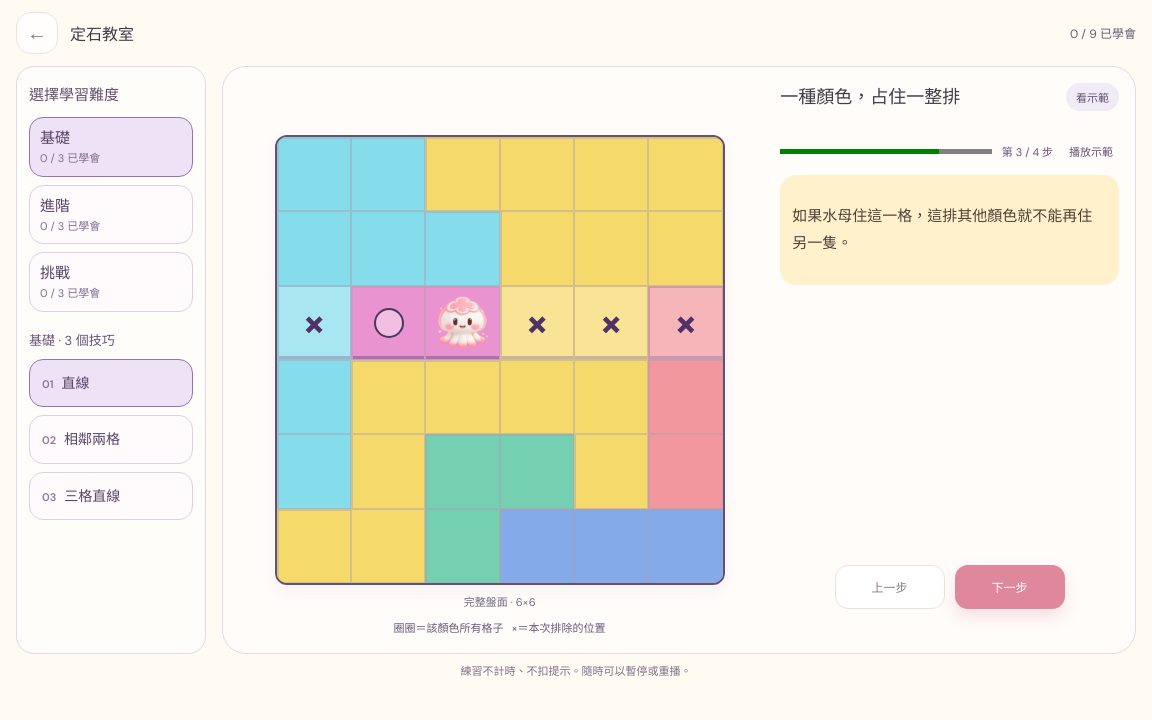
it: requires two one-cell answers for every lesson and saves completion separately from the game
Earlier steps of the test are not shown.
Later steps or results of the test are not shown.
Click the button with class "next-step" at [1010, 587], box [955, 565, 1065, 609]
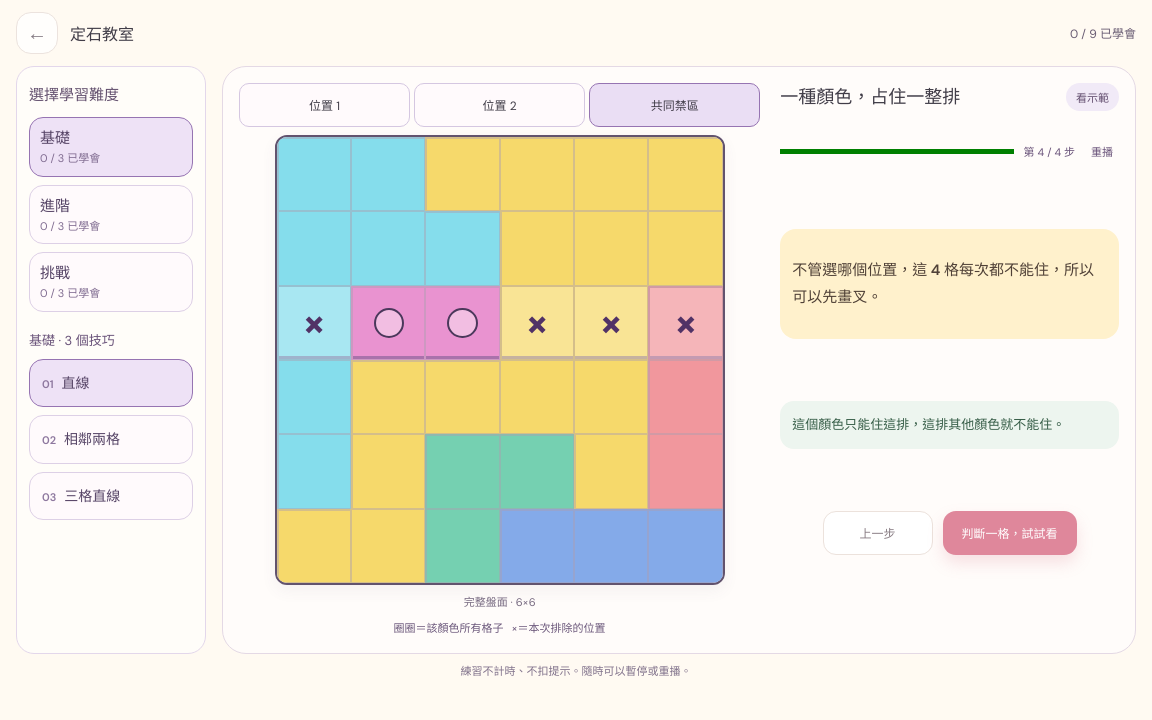
Click the button with class "next-step" at [1010, 533], box [943, 511, 1077, 555]
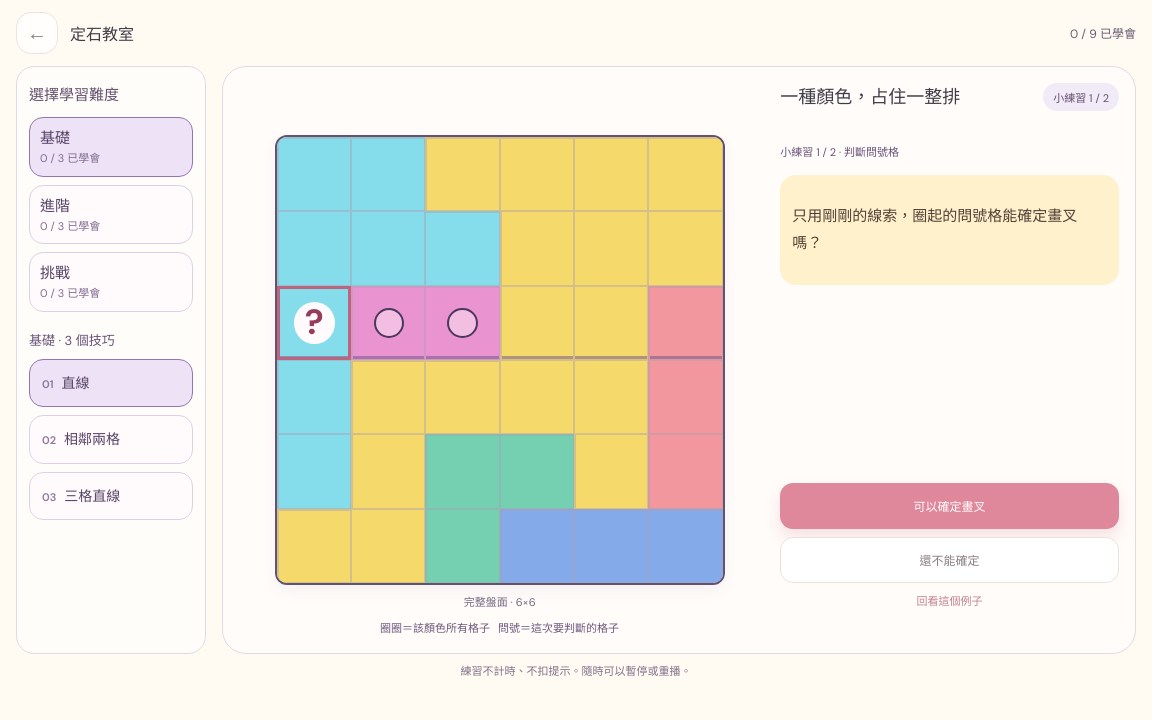
Check: the number of elements with class "candidate-ring" is 2, box [374, 308, 404, 338]; [447, 308, 478, 338]
Check: no elements with class "teaching-x" are shown
Click the button with class "answer-no" at [950, 560], box [780, 537, 1119, 583]
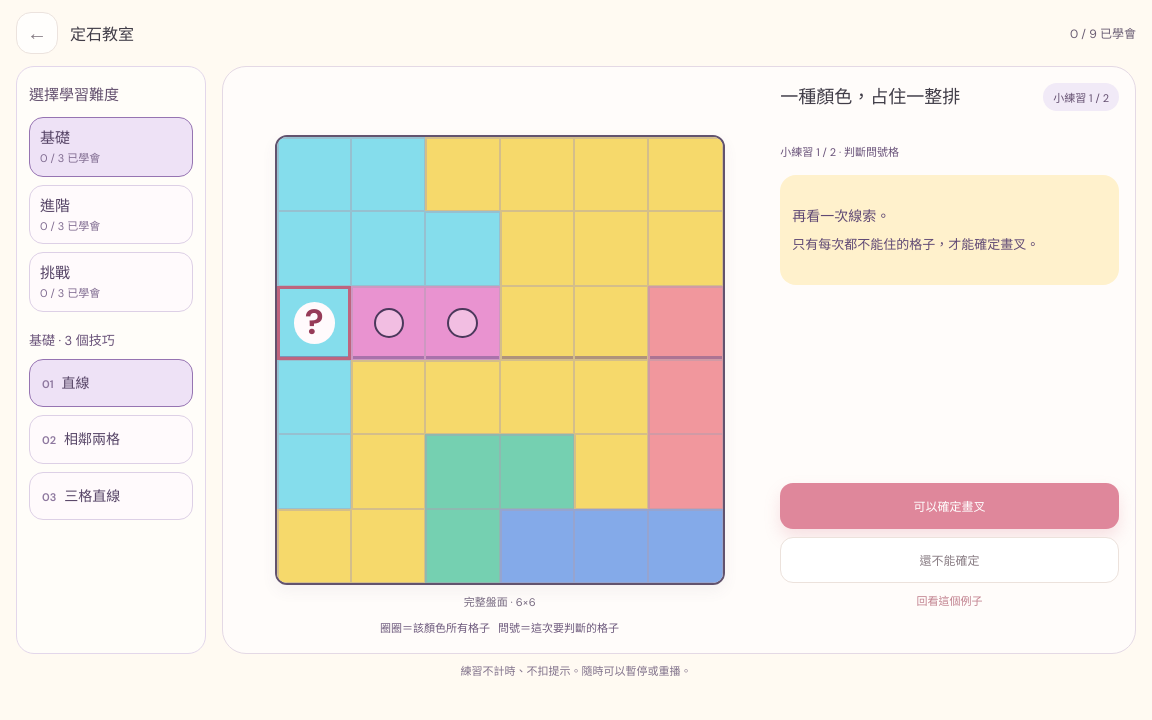
Check: the message "再看一次線索。 只有每次都不能住的格子，才能確定畫叉。" is shown, box [792, 204, 1039, 256]
Click the button with class "answer-yes" at [950, 506], box [780, 483, 1119, 529]
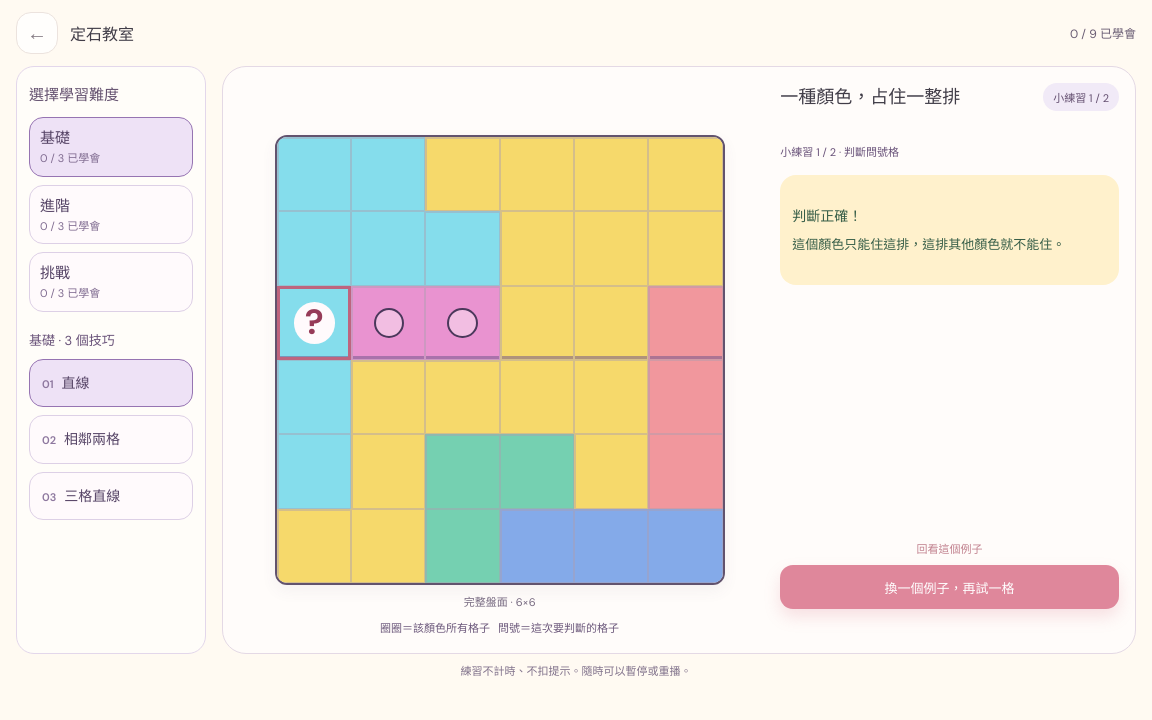
Check: the message "判斷正確！ 這個顏色只能住這排，這排其他顏色就不能住。" is shown, box [792, 204, 1065, 256]
Click the button with class "continue-practice" at [950, 587], box [780, 565, 1119, 609]
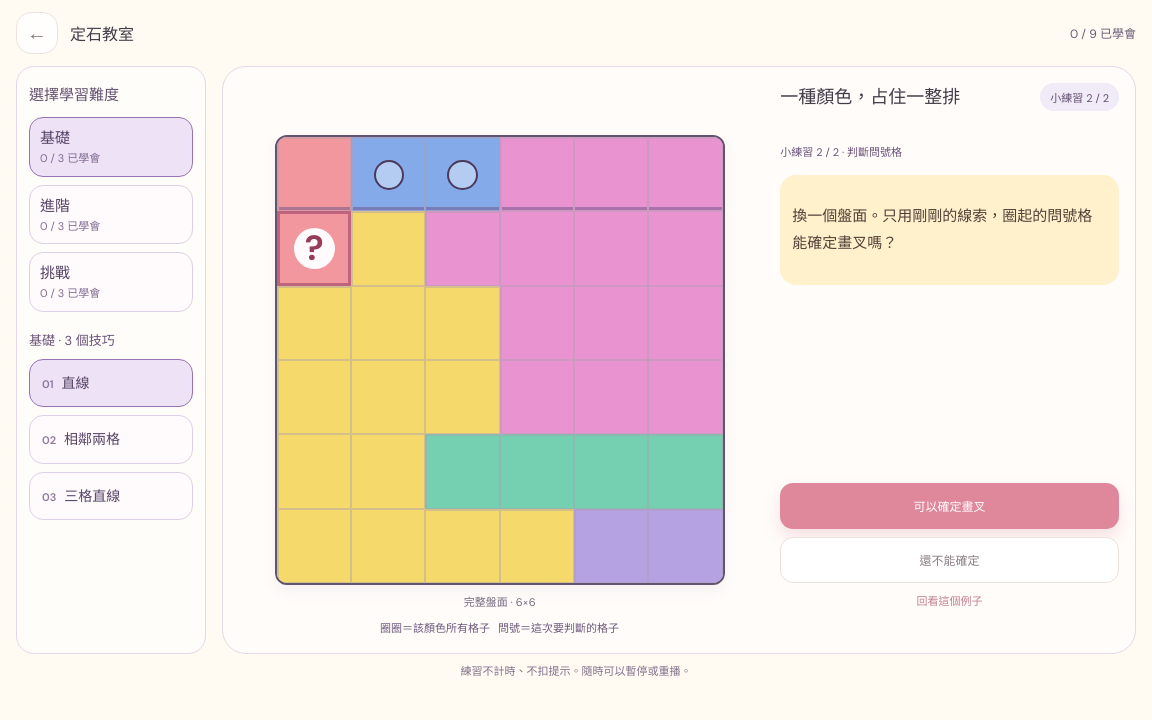
Check: the number of elements with class "candidate-ring" is 2, box [374, 160, 404, 190]; [447, 160, 478, 190]
Click the button with class "answer-no" at [950, 560], box [780, 537, 1119, 583]
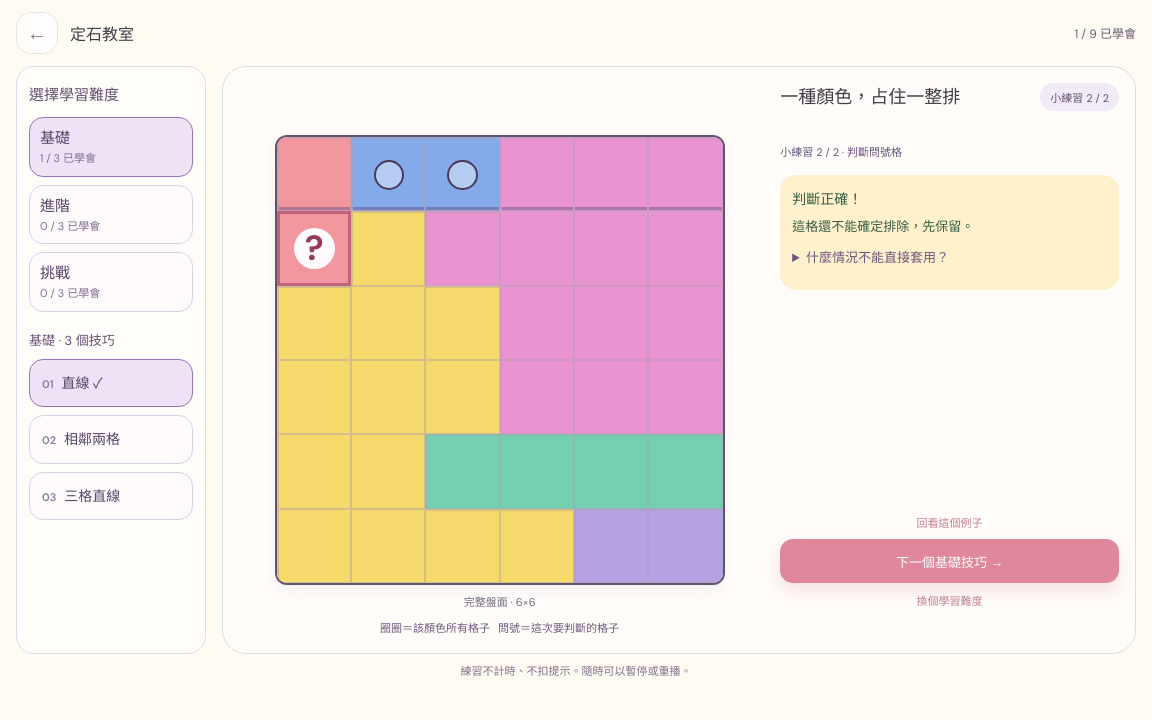
Check: the message "判斷正確！ 這格還不能確定排除，先保留。 什麼情況不能直接套用？" is shown, box [792, 187, 974, 278]
Check: the element with class "lesson-caution" is shown, box [806, 249, 949, 266]
